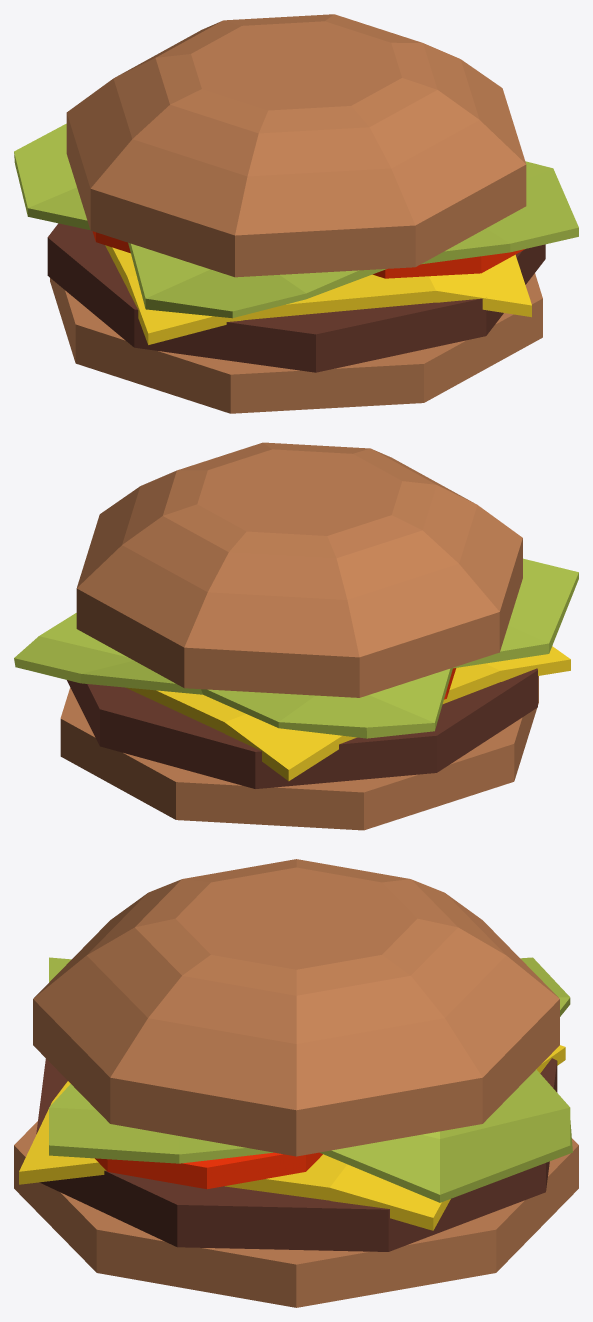
The model's file is cheeseburger.fbx.
3 views of the same model, one above another, from view 1: azimuth 30°, elevation 25°; view 2: azimuth 150°, elevation 25°; view 3: azimuth 270°, elevation 25° (orthographic). The views are drawn at different scales.
Parts seen in each view (by area): view 1: burger; view 2: burger; view 3: burger.
Part boxes in pixels (<box>): burger: <box>14,14,578,413</box>; burger: <box>14,442,578,830</box>; burger: <box>14,859,578,1307</box>.
Bounding box in the file's own units: 182 × 95.79 × 182.
